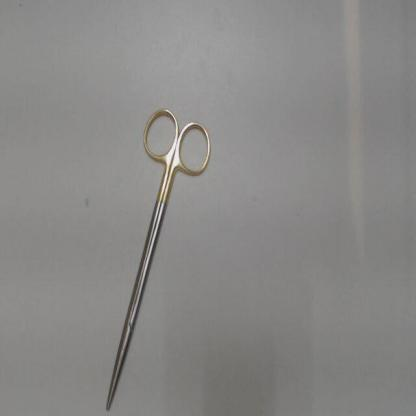7 Metzenbaum Scissors: (103, 104, 215, 413)
